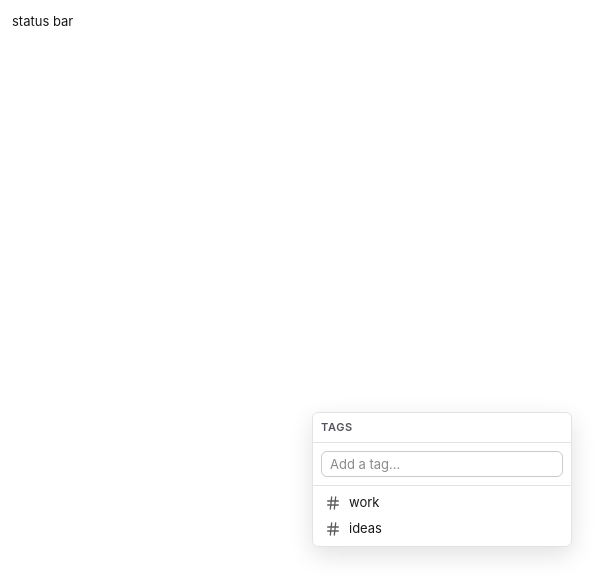
Test: TagEditor › says what Enter will do when nothing matches, rather than showing an empty box
In the field with test id "tag-editor-input": [442, 464] box [321,450,563,476], type "urgent"
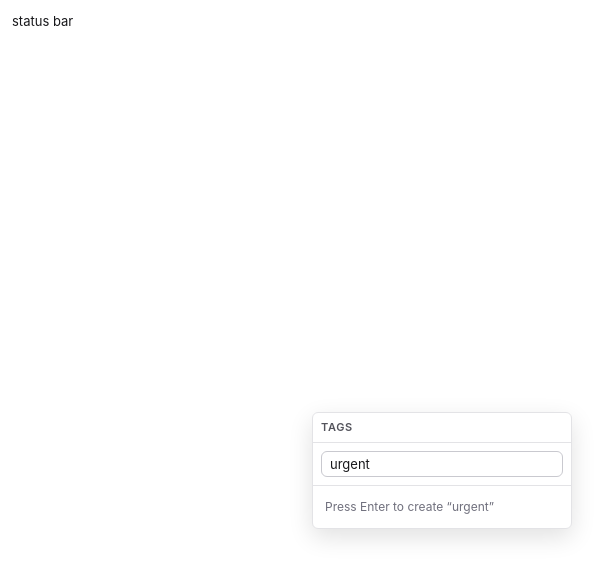
Expected: the text "Press Enter to create “urgent”" is shown, [325,498,494,514]
